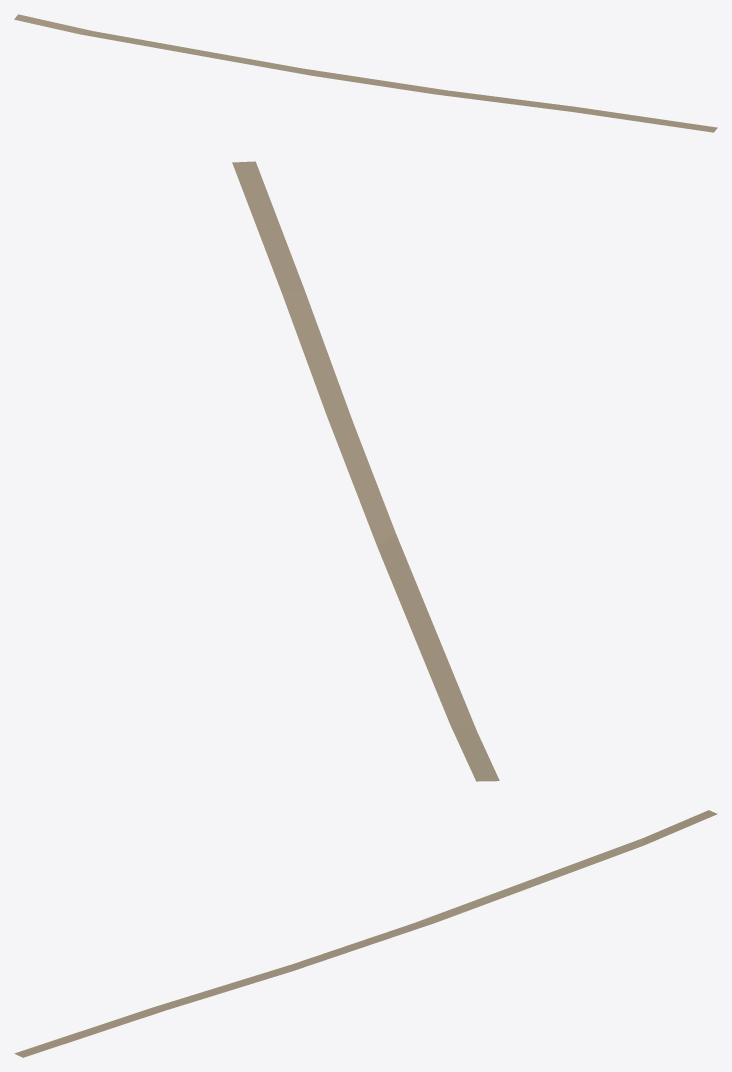
File: farm_-2_13_track.glb
3 renders of one model, top to bottom at view 1: azimuth 30°, elevation 25°; view 2: azimuth 150°, elevation 25°; view 3: azimuth 270°, elevation 25°, orthographic. The views are drawn at different scales.
Visible parts, largest first — view 1: geometry_0; view 2: geometry_0; view 3: geometry_0.
Part boxes in pixels (x1,y1,x2,y2): geometry_0: [14, 14, 717, 132]; geometry_0: [232, 161, 499, 781]; geometry_0: [14, 810, 717, 1057].
Bounding box in the file's own units: 132 × 2.85 × 160.
